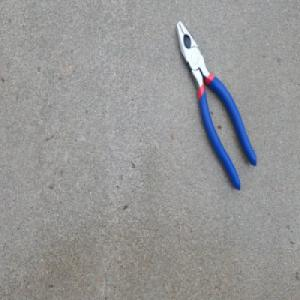Pliers: (174, 19, 258, 193)
